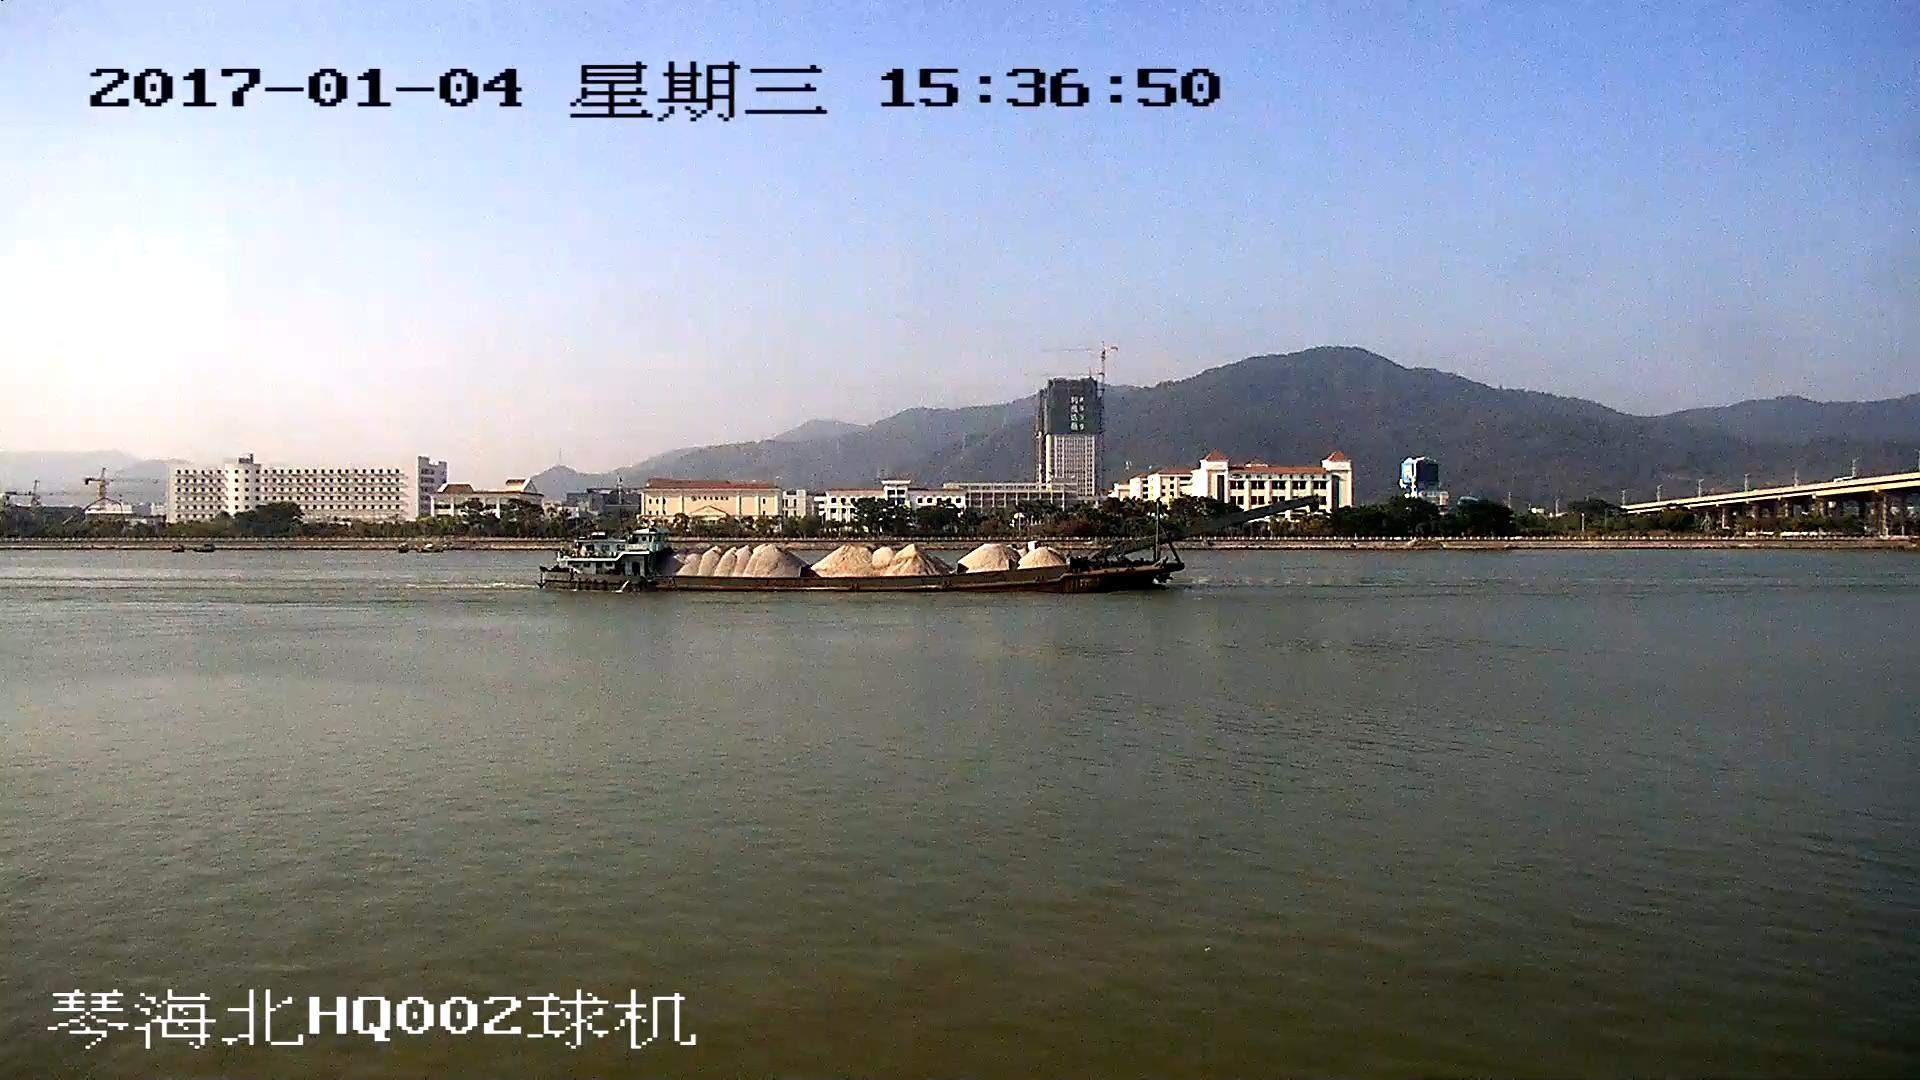Ship: (541, 501, 1317, 596)
